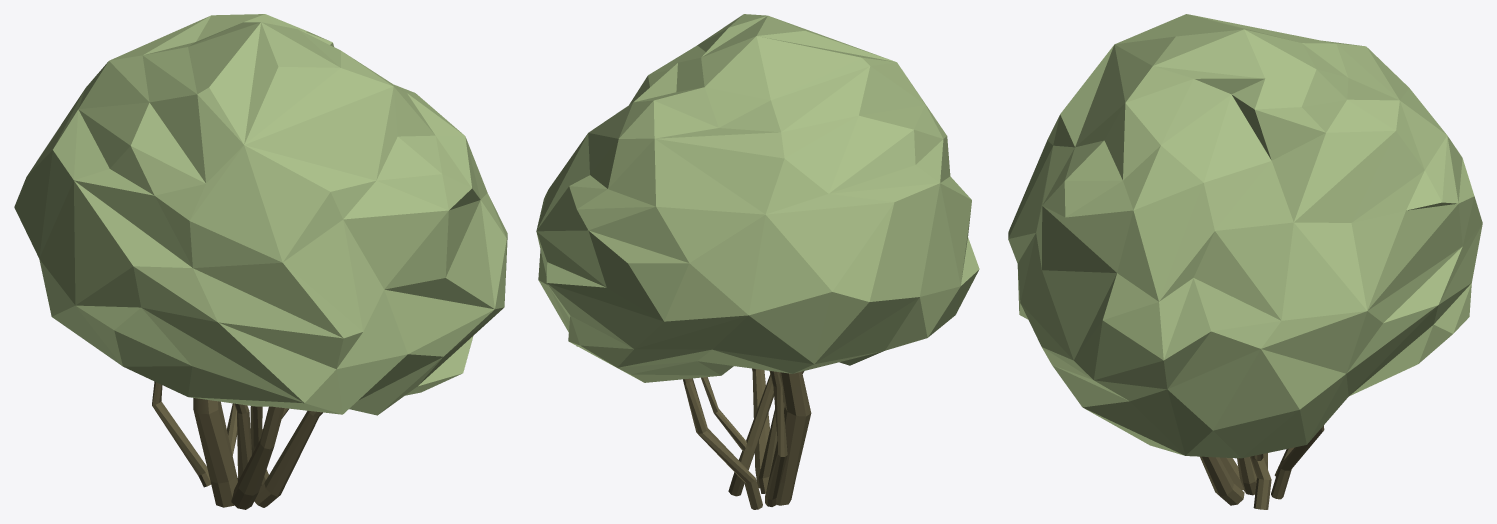
Rendered from Hazel_tree.fbx.
3 renders of one model, left to right at view 1: azimuth 30°, elevation 25°; view 2: azimuth 150°, elevation 25°; view 3: azimuth 270°, elevation 25°, orthographic. The views are drawn at different scales.
Parts seen in each view (by area): view 1: pSphere5, pCylinder9; view 2: pSphere5, pCylinder9; view 3: pSphere5, pCylinder9.
Part boxes in pixels (x1,y1,x2,y2): pSphere5: (14,14,507,415); pCylinder9: (152,381,322,509); pSphere5: (536,14,979,382); pCylinder9: (683,368,811,509); pSphere5: (1008,14,1482,458); pCylinder9: (1200,425,1324,509).
Size of the model in its own units: 6.09 by 6.73 by 6.07.
